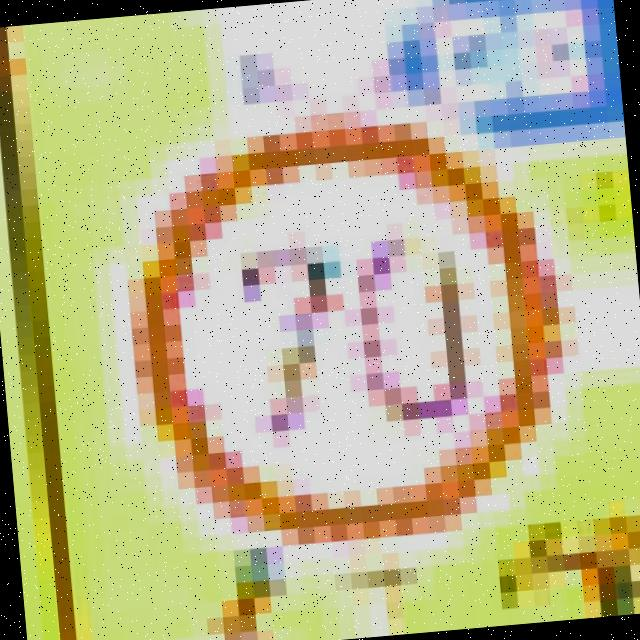Ograniczenie predkosci do 70: (123, 102, 577, 561)
